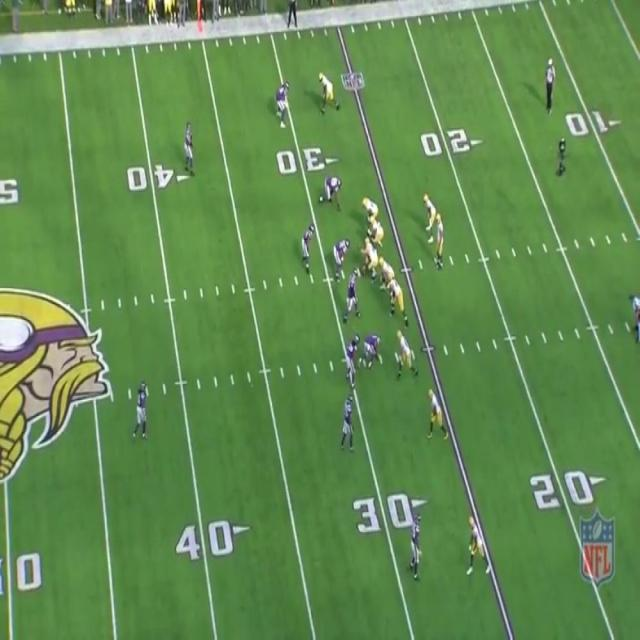center: (358, 237, 378, 278)
db: (411, 518, 424, 573), (342, 397, 358, 438), (276, 83, 290, 129), (137, 381, 148, 438), (186, 124, 194, 175)
lb: (302, 221, 316, 265), (347, 340, 359, 380)
qb: (433, 214, 447, 268)
skill: (467, 516, 489, 572), (396, 328, 412, 379), (429, 385, 444, 437), (318, 73, 338, 111), (424, 188, 434, 228)
